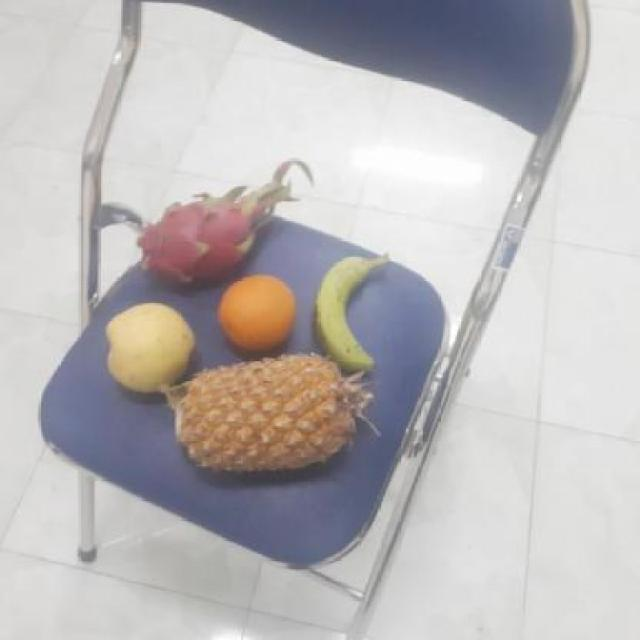dragon fruit: (145, 199, 266, 293)
oren: (219, 272, 303, 354)
pear: (106, 305, 200, 396)
pineapple: (174, 356, 365, 475)
